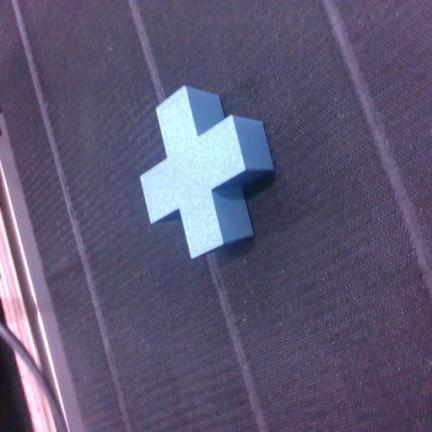cross: (141, 87, 273, 258)
